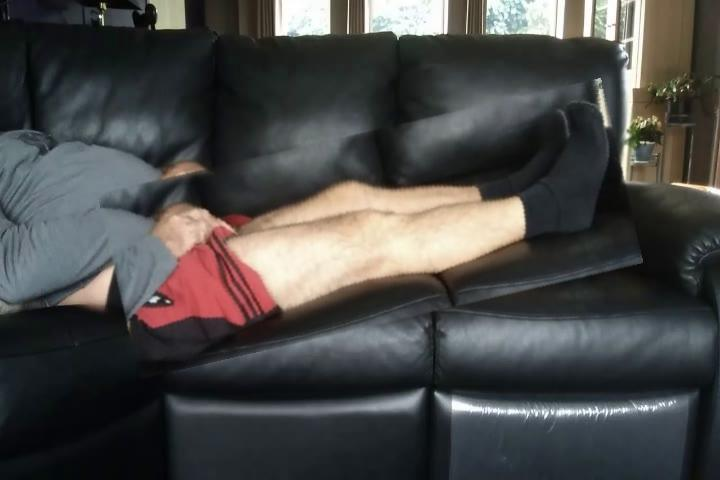lower_body: (106, 107, 637, 353)
